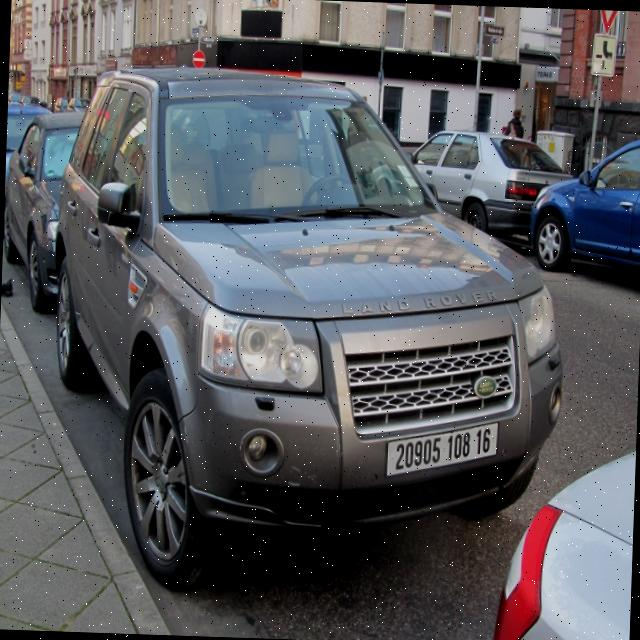Autre: (386, 421, 499, 477)
